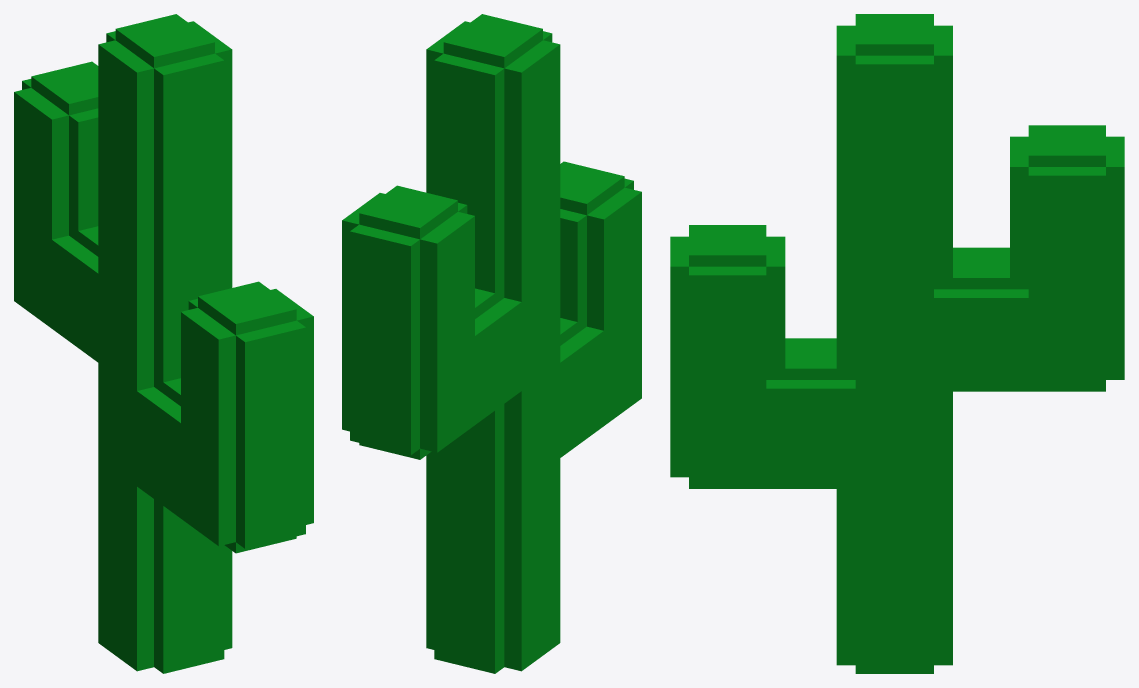
File: cactus1.glb
The picture shows the model from 3 angles, left to right: view 1: azimuth 30°, elevation 25°; view 2: azimuth 150°, elevation 25°; view 3: azimuth 270°, elevation 25°; orthographic projection.
Parts seen in each view (by area): view 1: cactus1; view 2: cactus1; view 3: cactus1.
Boxes of the visible parts, box(x1,y1,x2,y2) form: cactus1: box(14, 14, 313, 673); cactus1: box(342, 14, 641, 673); cactus1: box(670, 14, 1124, 673).
Size of the model in its own units: 0.2904 by 1.78 by 1.18.
